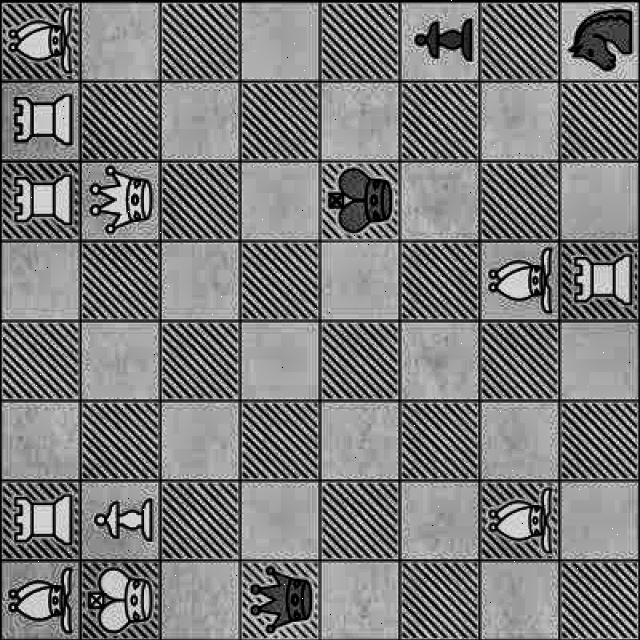Black Knight: (562, 0, 640, 76)
black king: (319, 161, 398, 237)
black pawn: (402, 0, 477, 79)
black queen: (244, 562, 316, 638)
white bishop: (3, 560, 81, 638), (483, 242, 557, 316), (485, 482, 557, 558), (4, 4, 80, 74)
white king: (84, 565, 154, 640)
white pawn: (86, 486, 156, 556)
white queen: (81, 168, 163, 234)
white rook: (1, 166, 79, 238), (4, 488, 78, 554), (5, 92, 78, 154), (558, 249, 636, 306)
